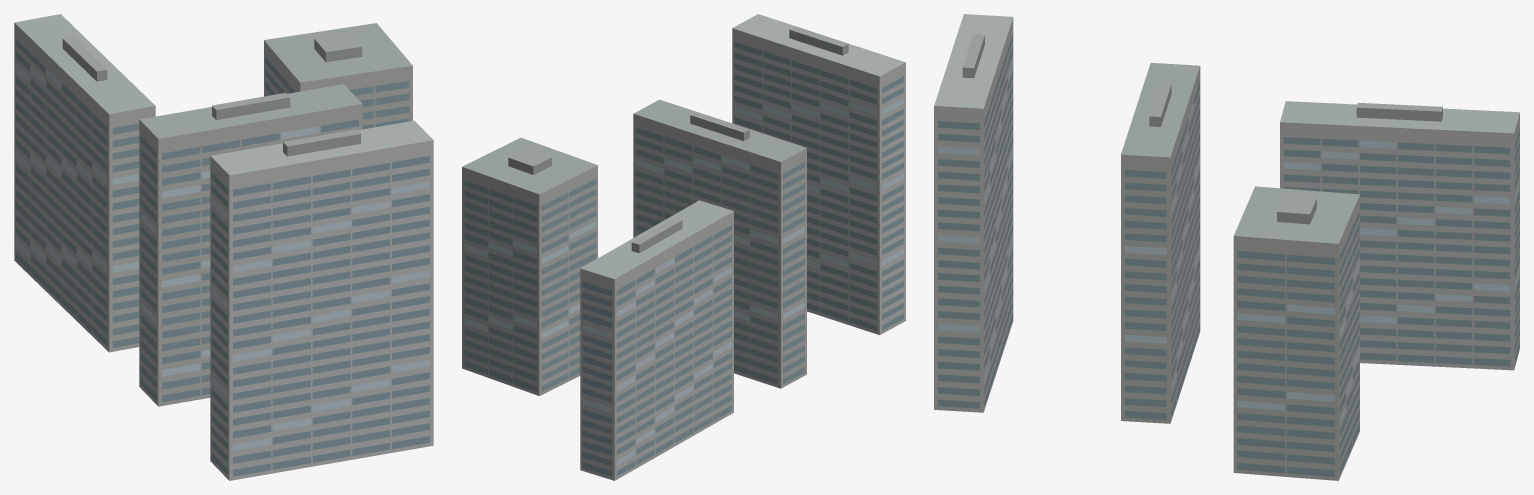
Rendered from apt-a15007201.glb.
The picture shows the model from 3 angles, left to right: view 1: azimuth 30°, elevation 25°; view 2: azimuth 150°, elevation 25°; view 3: azimuth 270°, elevation 25°; orthographic projection. The views are drawn at different scales.
Visible parts, largest first — view 1: apt-a15007201; view 2: apt-a15007201; view 3: apt-a15007201.
Part boxes in pixels (<box>): apt-a15007201: <box>14,14,433,480</box>; apt-a15007201: <box>462,14,905,480</box>; apt-a15007201: <box>934,14,1519,480</box>.
Bounding box in the file's own units: 83.46 × 75 × 127.
